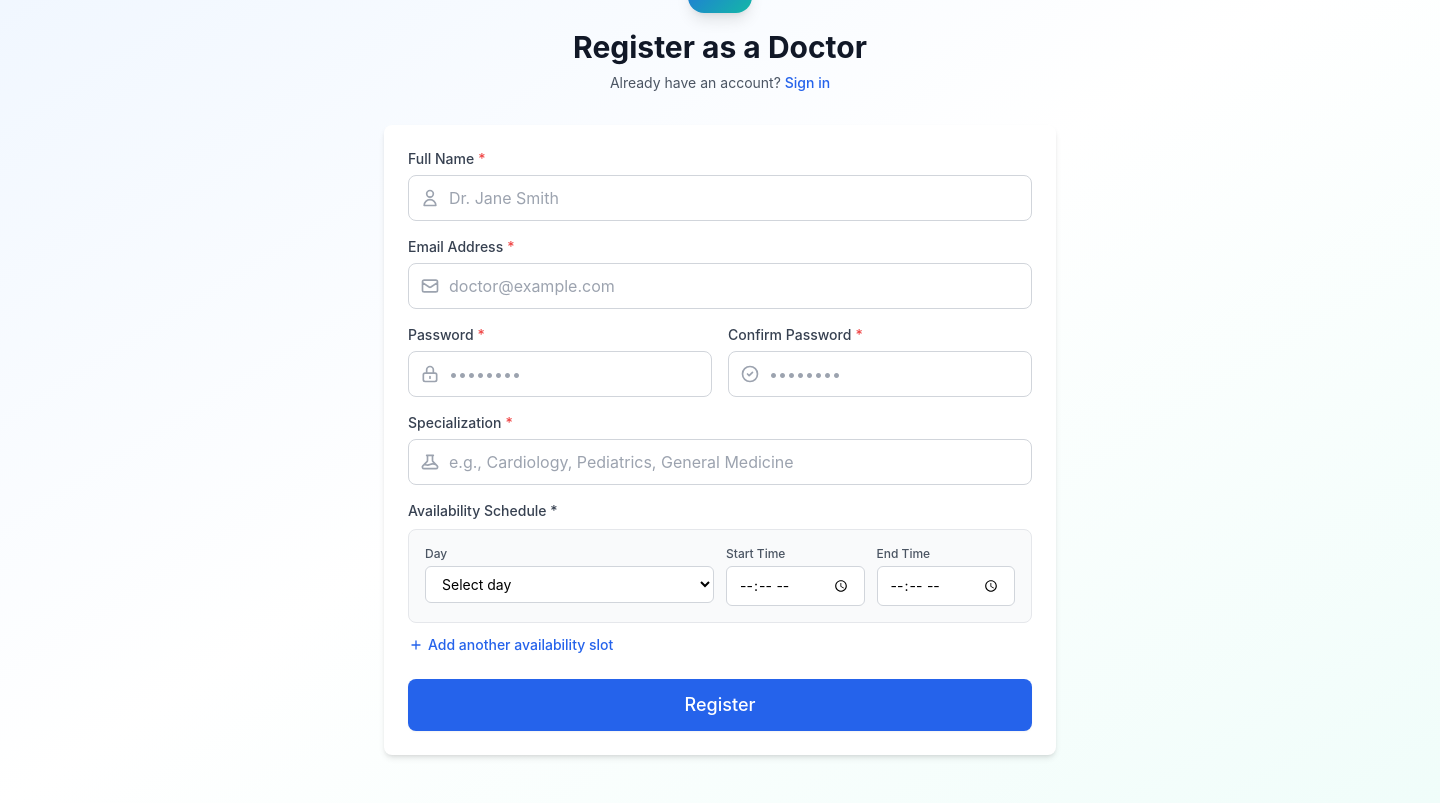
Scenario: DoctorRegister Component › validates required fields
(page scrolled)
Click the button "Register" at (720, 705), box 408,679 -> 1032,731
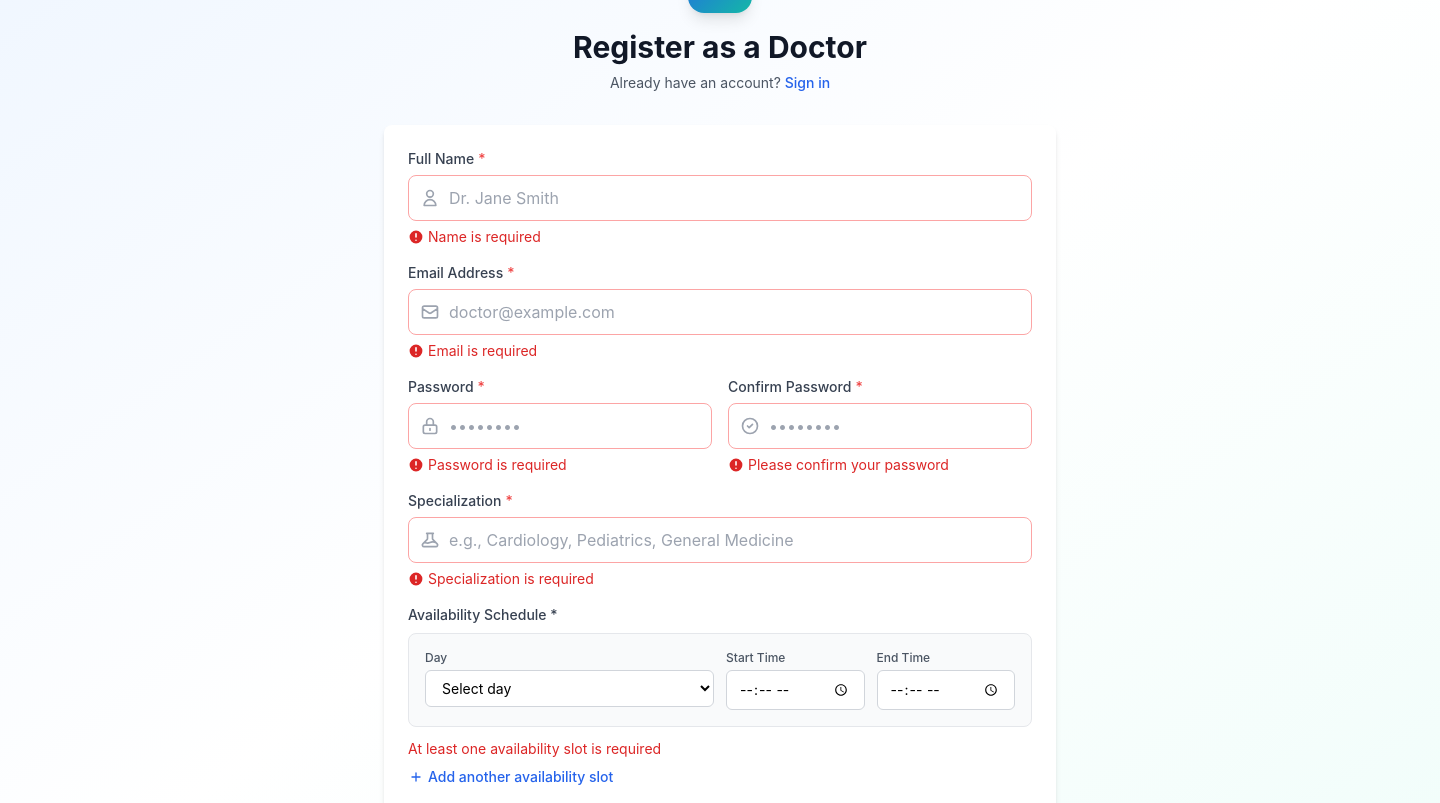
Expected: the text "Name is required" is shown, 408,228 -> 541,245
Expected: the text "Email is required" is shown, 408,342 -> 537,359
Expected: the text "Password is required" is shown, 408,456 -> 567,473
